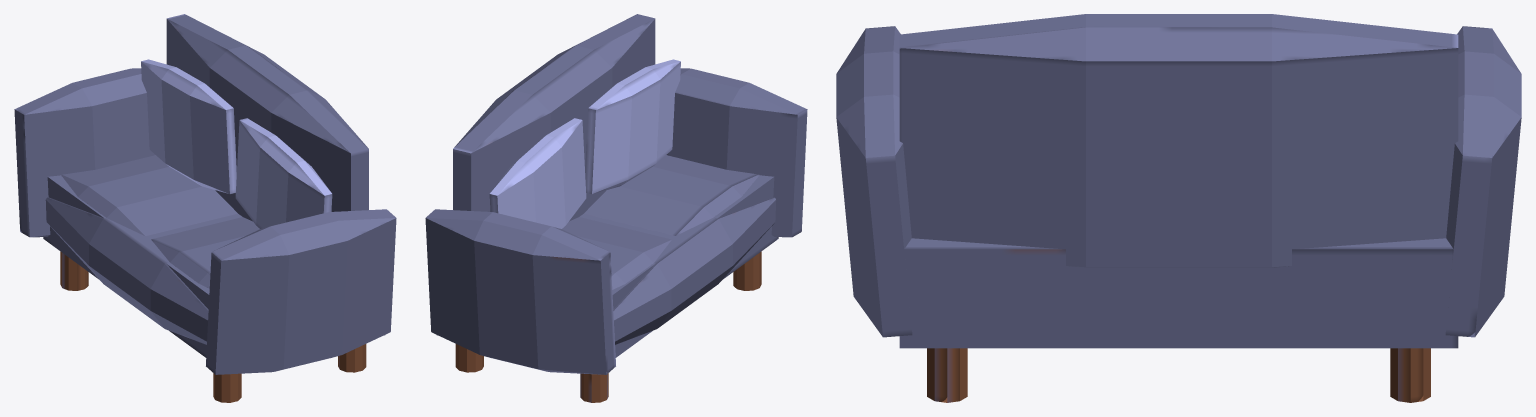
File: sofa.fbx
The picture shows the model from 3 angles, left to right: view 1: azimuth 30°, elevation 25°; view 2: azimuth 150°, elevation 25°; view 3: azimuth 270°, elevation 25°; orthographic projection. The views are drawn at different scales.
Parts seen in each view (by area): view 1: beveled_cuboid_6, beveled_cuboid_2, beveled_cuboid_7, beveled_cuboid_3, beveled_cuboid, beveled_cuboid_4, beveled_cuboid_1, beveled_cuboid_5, cube, cylinder, cylinder_1, cylinder_3; view 2: beveled_cuboid_7, beveled_cuboid_2, beveled_cuboid_6, beveled_cuboid_3, beveled_cuboid_1, beveled_cuboid_5, beveled_cuboid, beveled_cuboid_4, cube, cylinder_1, cylinder, cylinder_2; view 3: beveled_cuboid_2, cube, beveled_cuboid_7, beveled_cuboid_6, cylinder_2, cylinder_3.
Part boxes in pixels (<box>): beveled_cuboid_6: <box>206,209,396,374</box>; beveled_cuboid_2: <box>166,14,368,221</box>; beveled_cuboid_7: <box>14,68,155,237</box>; beveled_cuboid_3: <box>45,197,242,344</box>; beveled_cuboid: <box>141,59,236,193</box>; beveled_cuboid_4: <box>61,155,237,236</box>; beveled_cuboid_1: <box>235,118,332,228</box>; beveled_cuboid_5: <box>151,217,259,288</box>; cube: <box>43,175,384,357</box>; cylinder: <box>60,251,88,290</box>; cylinder_1: <box>213,373,241,402</box>; cylinder_3: <box>338,344,366,372</box>; beveled_cuboid_7: <box>425,209,615,374</box>; beveled_cuboid_2: <box>453,14,655,221</box>; beveled_cuboid_6: <box>666,68,807,237</box>; beveled_cuboid_3: <box>579,197,776,344</box>; beveled_cuboid_1: <box>585,59,680,193</box>; beveled_cuboid_5: <box>584,155,759,235</box>; beveled_cuboid: <box>489,118,586,228</box>; beveled_cuboid_4: <box>562,217,671,289</box>; cube: <box>437,175,778,357</box>; cylinder_1: <box>733,251,761,290</box>; cylinder: <box>580,373,608,402</box>; cylinder_2: <box>455,344,483,372</box>; beveled_cuboid_2: <box>899,14,1458,267</box>; cube: <box>899,238,1458,348</box>; beveled_cuboid_7: <box>1445,26,1521,337</box>; beveled_cuboid_6: <box>836,26,912,337</box>; cylinder_2: <box>1390,348,1430,402</box>; cylinder_3: <box>927,348,967,402</box>.
Bounding box in the file's own units: 142 × 186 × 314.
1 material, 1 textured.
